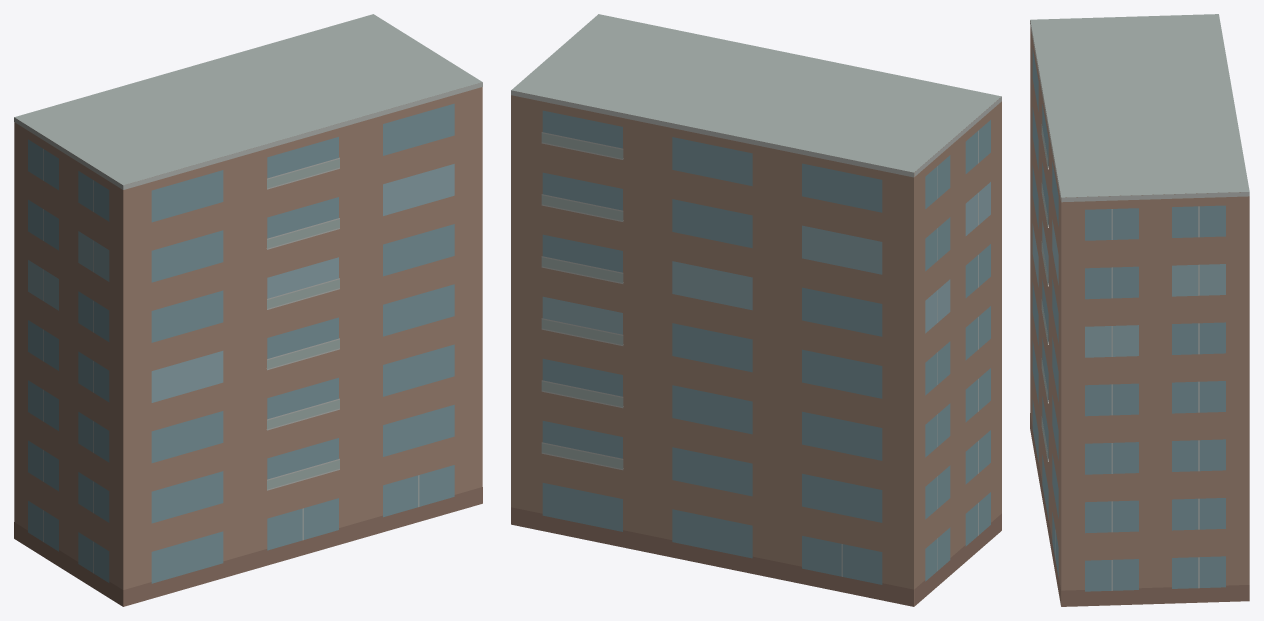
Rendered from survey-upis-32755207.glb.
The picture shows the model from 3 angles, left to right: view 1: azimuth 30°, elevation 25°; view 2: azimuth 150°, elevation 25°; view 3: azimuth 270°, elevation 25°; orthographic projection. The views are drawn at different scales.
Parts seen in each view (by area): view 1: survey-upis-32755207.tmp; view 2: survey-upis-32755207.tmp; view 3: survey-upis-32755207.tmp.
Boxes of the visible parts, x1=… form: survey-upis-32755207.tmp: x1=14, y1=14, x2=482, y2=606; survey-upis-32755207.tmp: x1=511, y1=14, x2=1001, y2=606; survey-upis-32755207.tmp: x1=1030, y1=14, x2=1249, y2=606.
Bounding box in the file's own units: 20.79 × 21.6 × 10.51.
